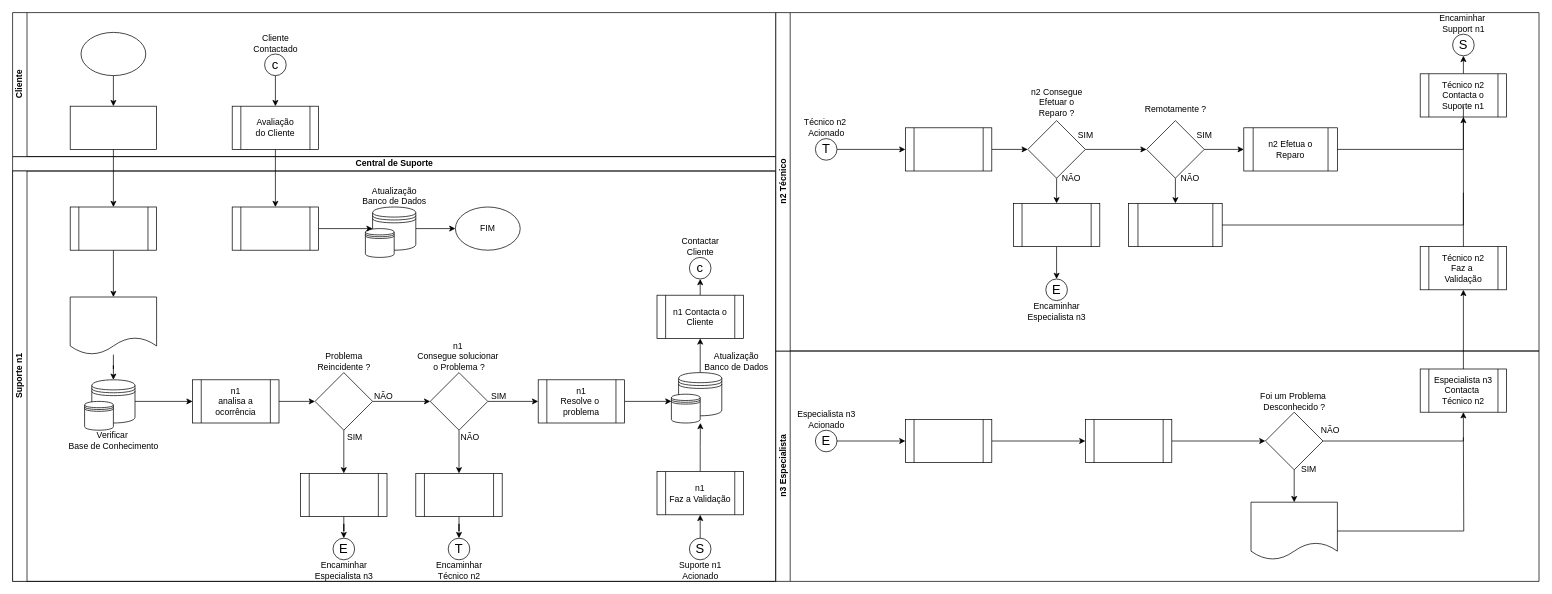
The diagram is 1552 pixels wide and 594 high, and some of its shapes have lost their labels. The shapes that lost their labels are listed below. From the top down, each one's centre as x and y in pixels, then its label:
pixel 113 54: Inicio
pixel 113 127: O usuário Efetua um chamado
pixel 948 149: n2 Analisa a Ocorrência
pixel 113 228: n1 Registra e Classifica a Ocorrência
pixel 275 228: n1 Finaliza a Ocorrência
pixel 1056 225: Técnico n2 Contacta o Especialista n3
pixel 1175 225: Agendamento: Técnico n2 para Efetuar o Reparo
pixel 113 325: Documento de Registro da Ocorrência
pixel 948 441: n3 Analisa a Ocorrência
pixel 1128 441: Especialista n3 Efetuar o Reparo
pixel 343 495: n1 Encaminha a Ocorrência para o n3
pixel 458 495: n1 Encaminha a Ocorrência para o n2
pixel 1293 530: Registro do Erro Desconhecido
